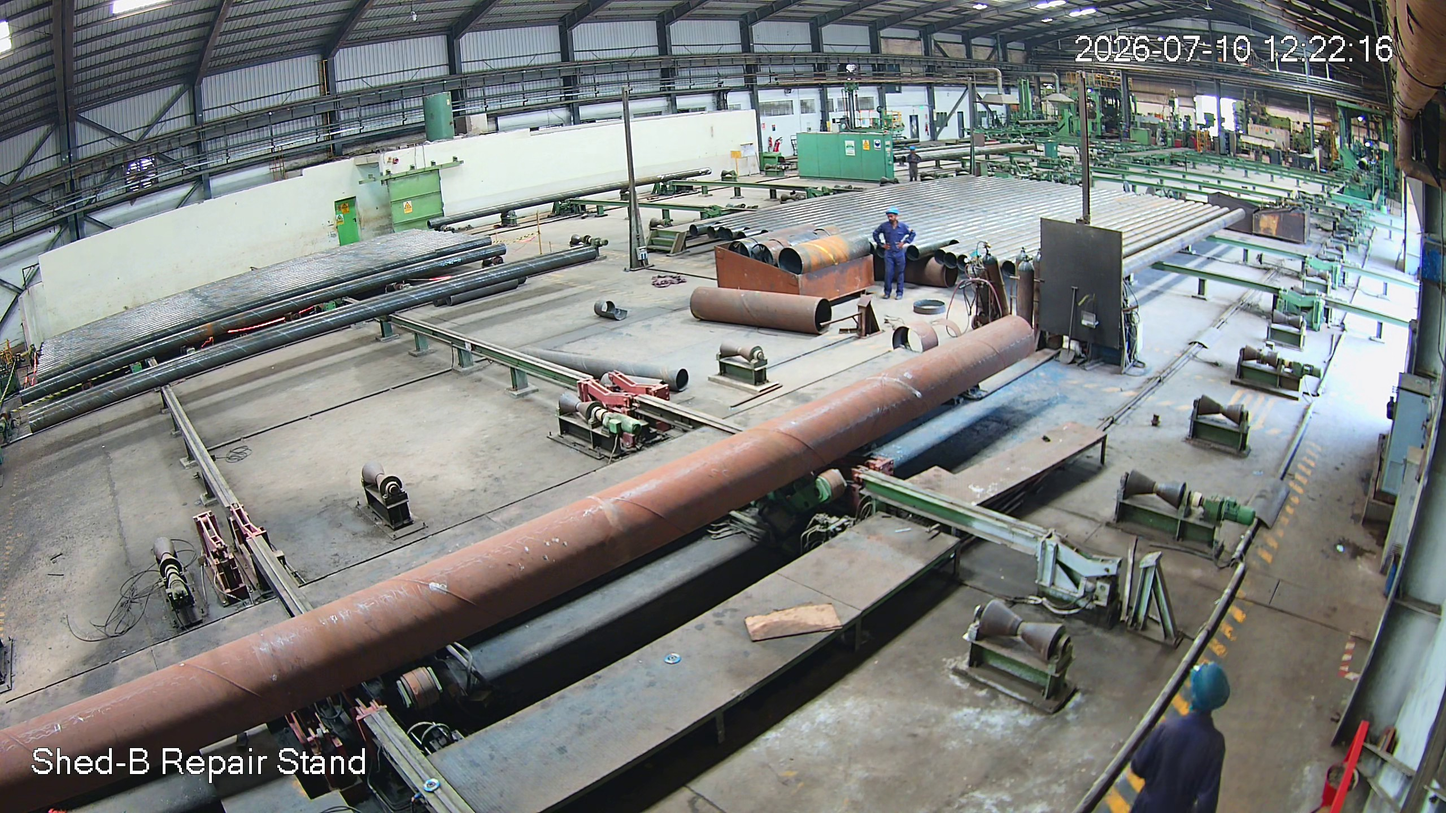Helmet: (1170, 640, 1240, 731), (879, 207, 903, 232)
Person: (1099, 647, 1267, 813), (869, 209, 919, 302)
